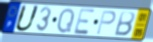3: (35, 6, 53, 33)
B: (113, 11, 136, 38)
E: (73, 7, 97, 36)
P: (95, 10, 117, 37)
Q: (56, 7, 76, 34)
U: (13, 4, 41, 33)
